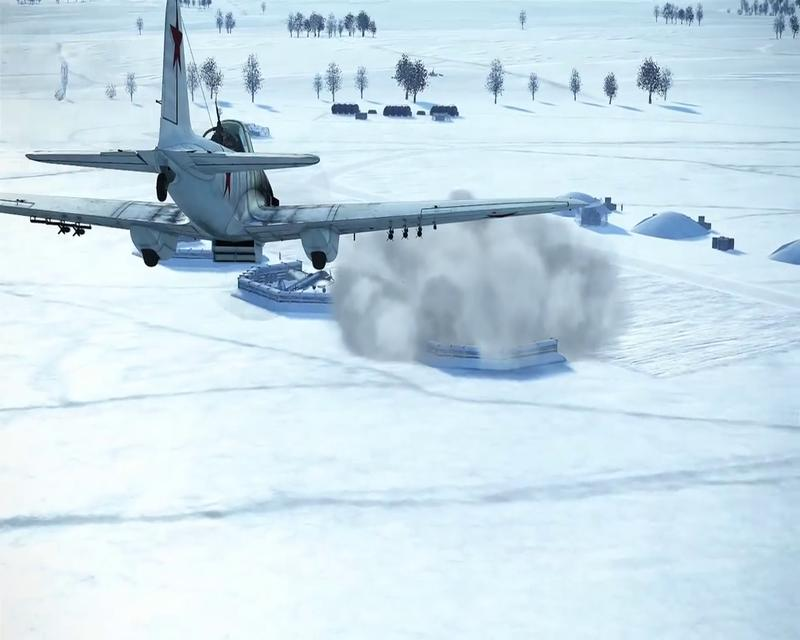UAV: (0, 1, 589, 271)
